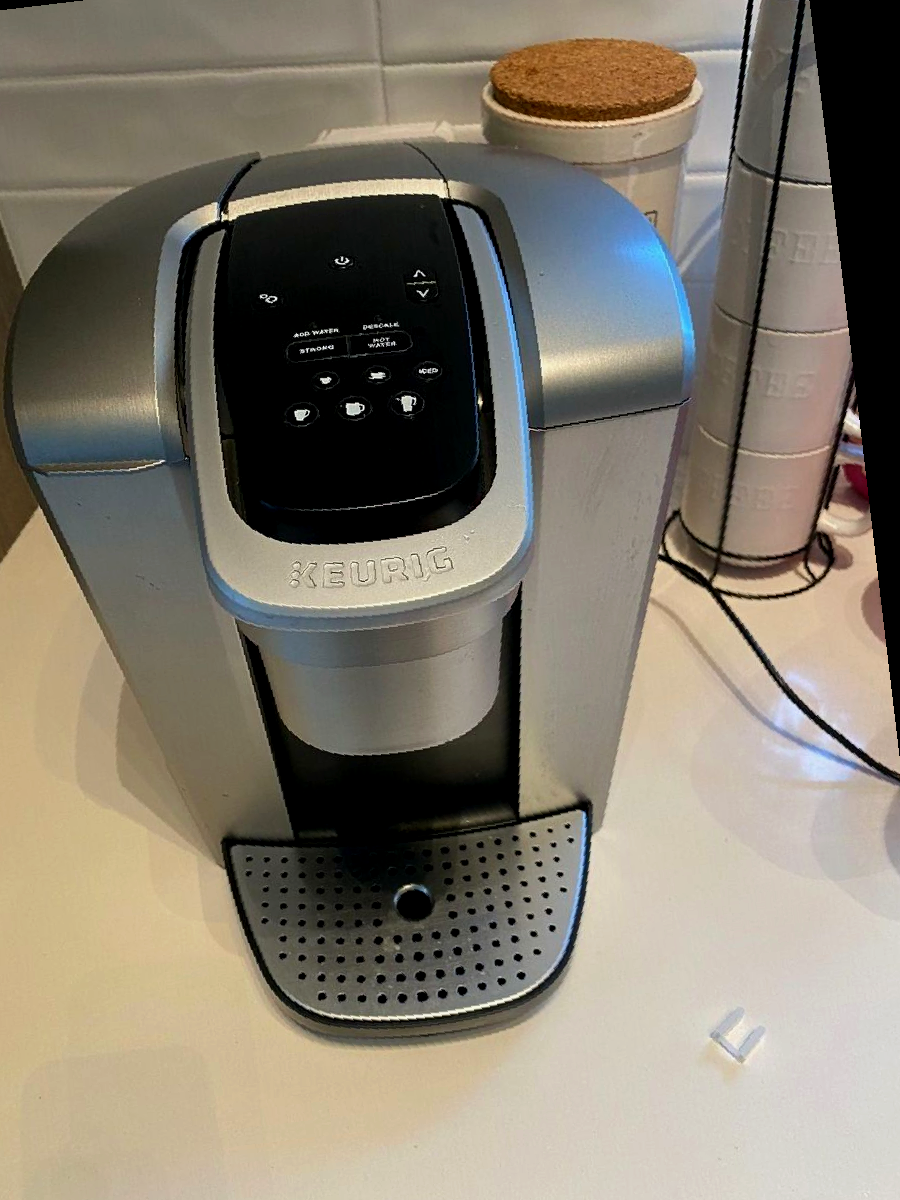10oz: (334, 393, 373, 425)
12oz: (387, 388, 426, 421)
4oz: (312, 370, 341, 391)
6oz: (365, 364, 395, 385)
8oz: (282, 398, 320, 430)
add_water: (282, 312, 347, 342)
coffee_handle: (252, 576, 501, 651)
descale: (345, 305, 410, 334)
hot: (348, 328, 419, 358)
iced: (413, 360, 443, 381)
platform: (387, 878, 439, 926)
power: (328, 251, 356, 273)
strong: (283, 336, 348, 365)
water_handle: (27, 449, 170, 487)
